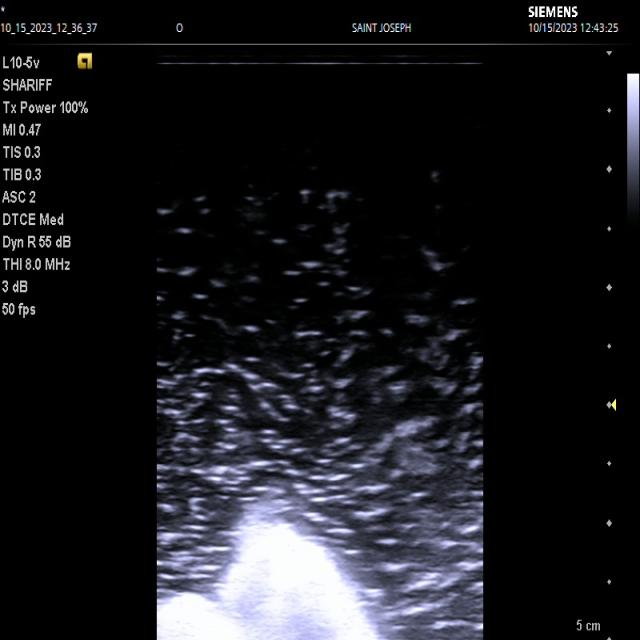tissue: (160, 521, 385, 640)
